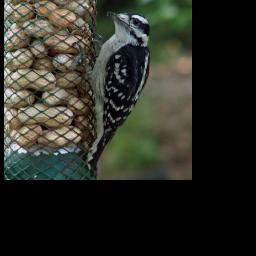Woodpecker: (70, 8, 161, 176)
